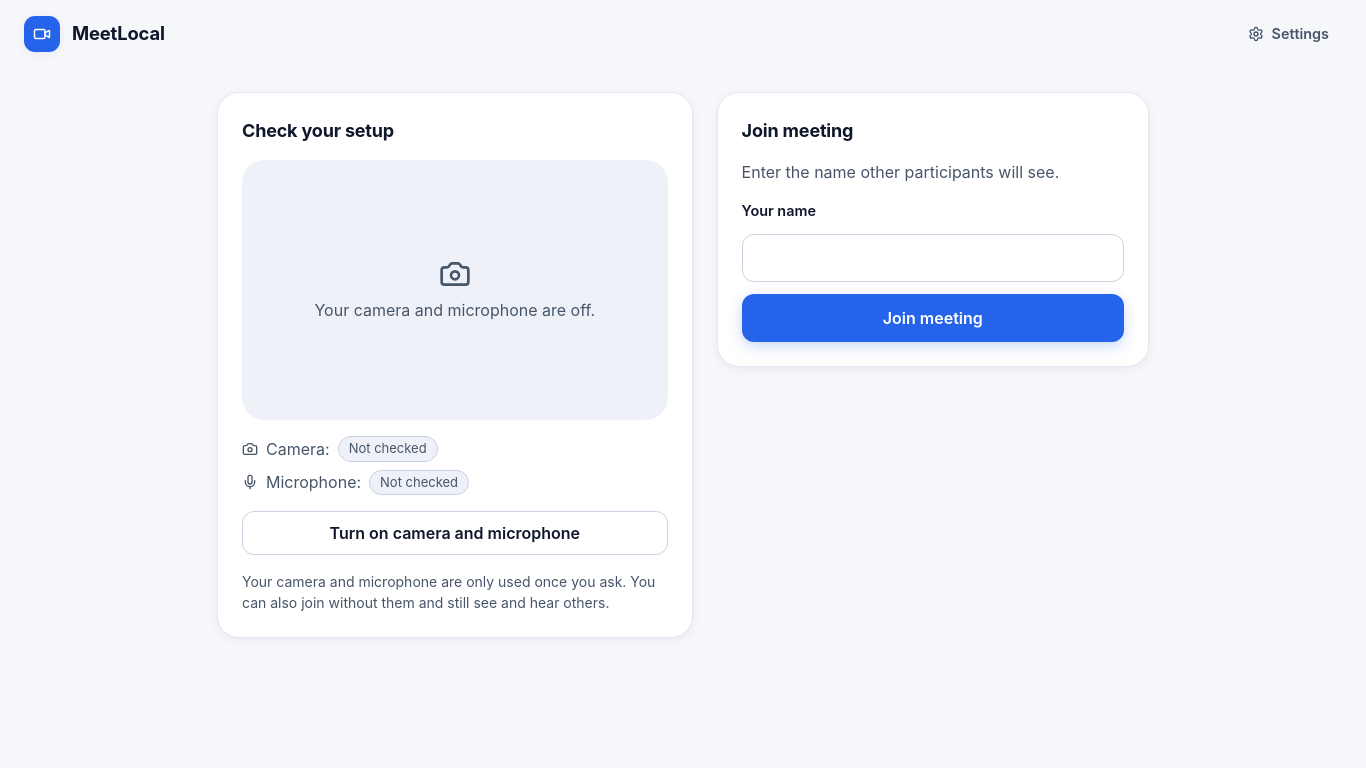
join page › enters the meeting screen once a name is entered
In the field labelled "Your name": (933, 258) [742,234,1124,282], type "Alice"
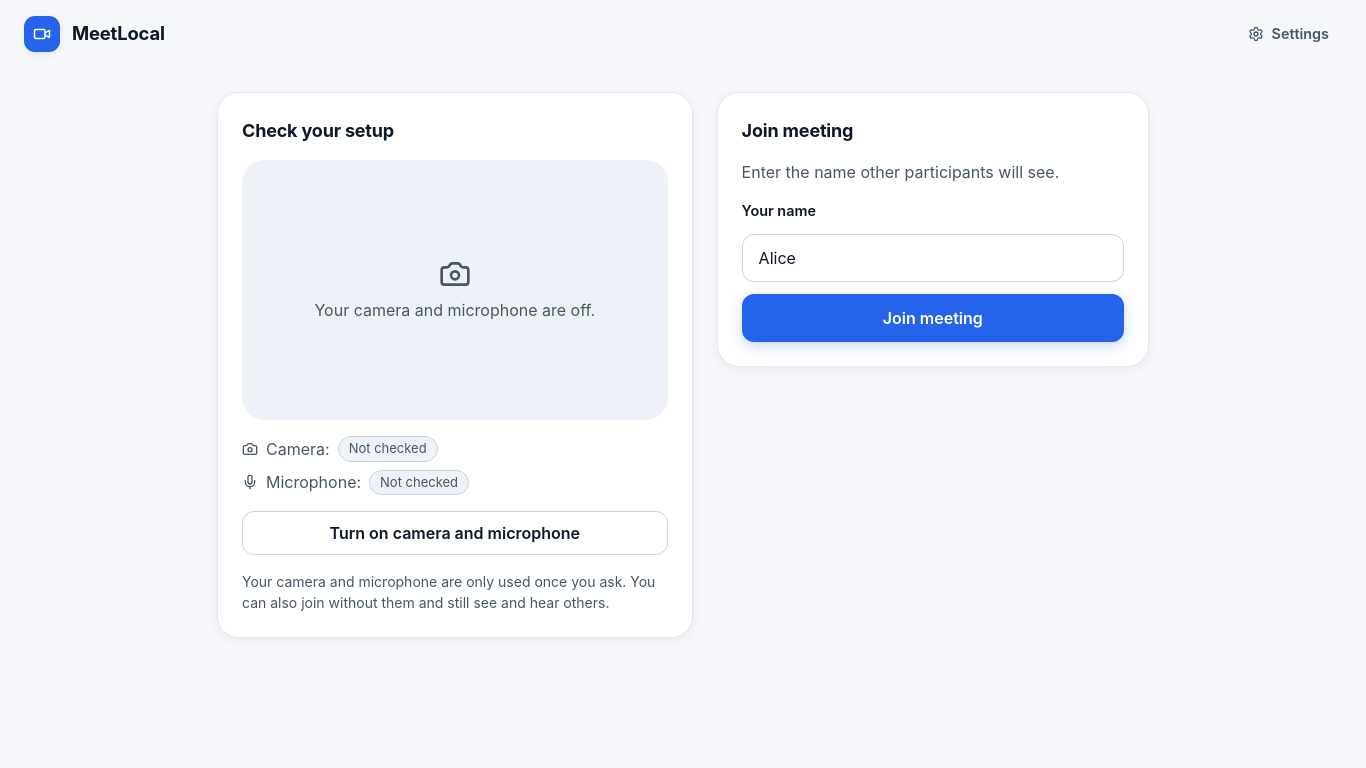
Click the button "Join meeting": (933, 318) [742,294,1124,342]
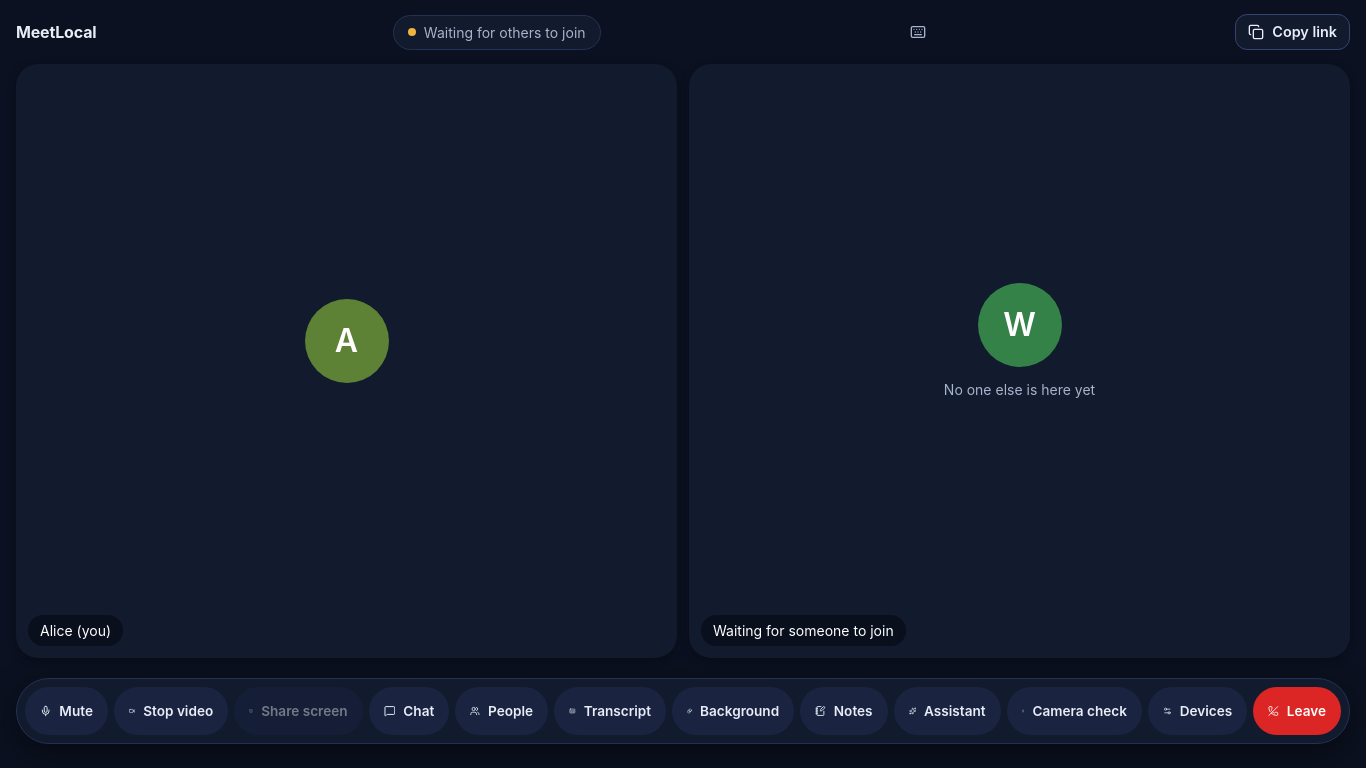
Expected: the element named "meeting controls" is shown, [16,678,1350,744]
